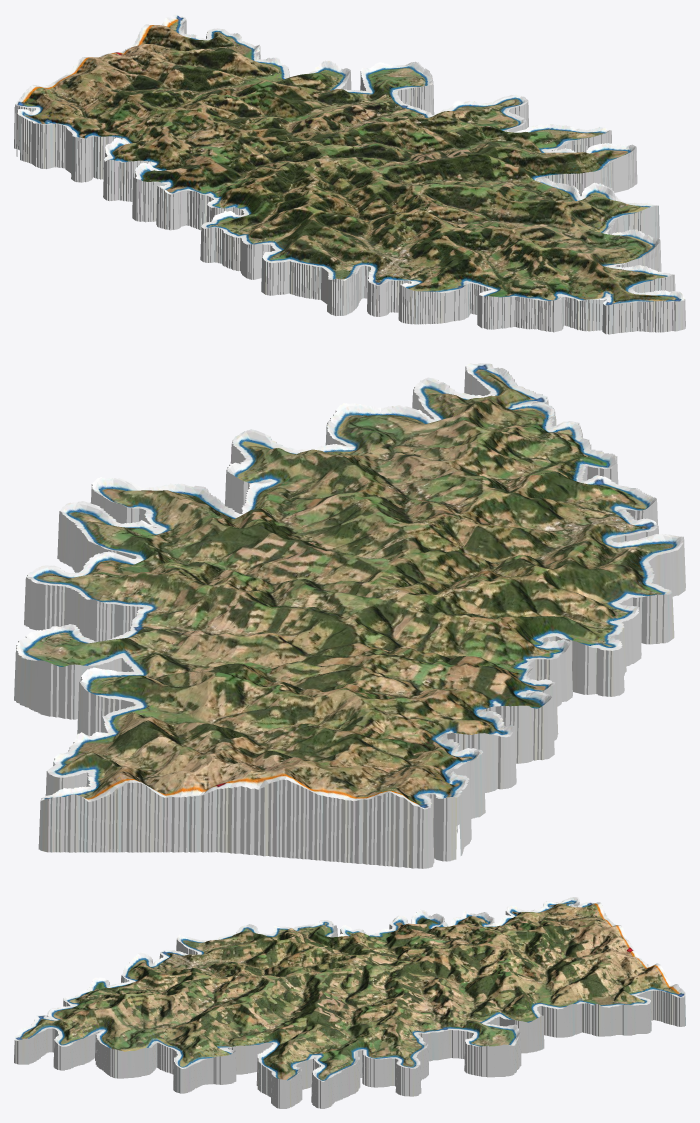
The picture shows the model from 3 angles, top to bottom: view 1: azimuth 30°, elevation 25°; view 2: azimuth 150°, elevation 25°; view 3: azimuth 270°, elevation 25°; orthographic projection. The views are drawn at different scales.
Size of the model in its own units: 1 by 0.1248 by 1.62.
1 material, 1 textured.
